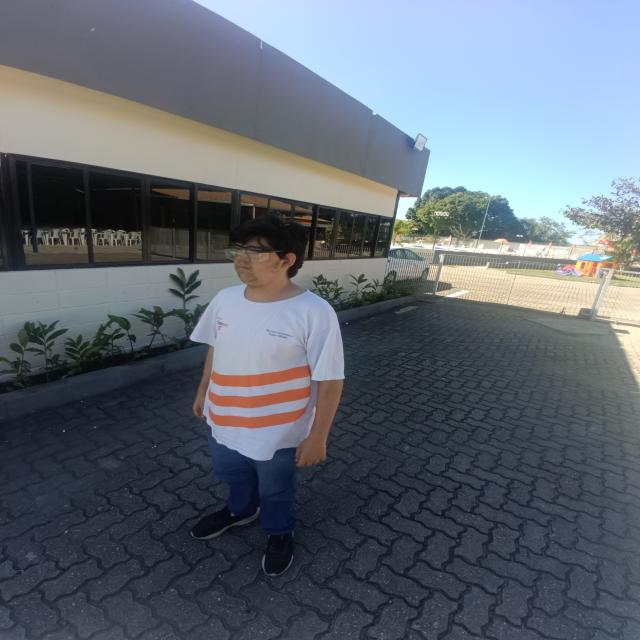oculos-epi: (224, 247, 285, 262)
